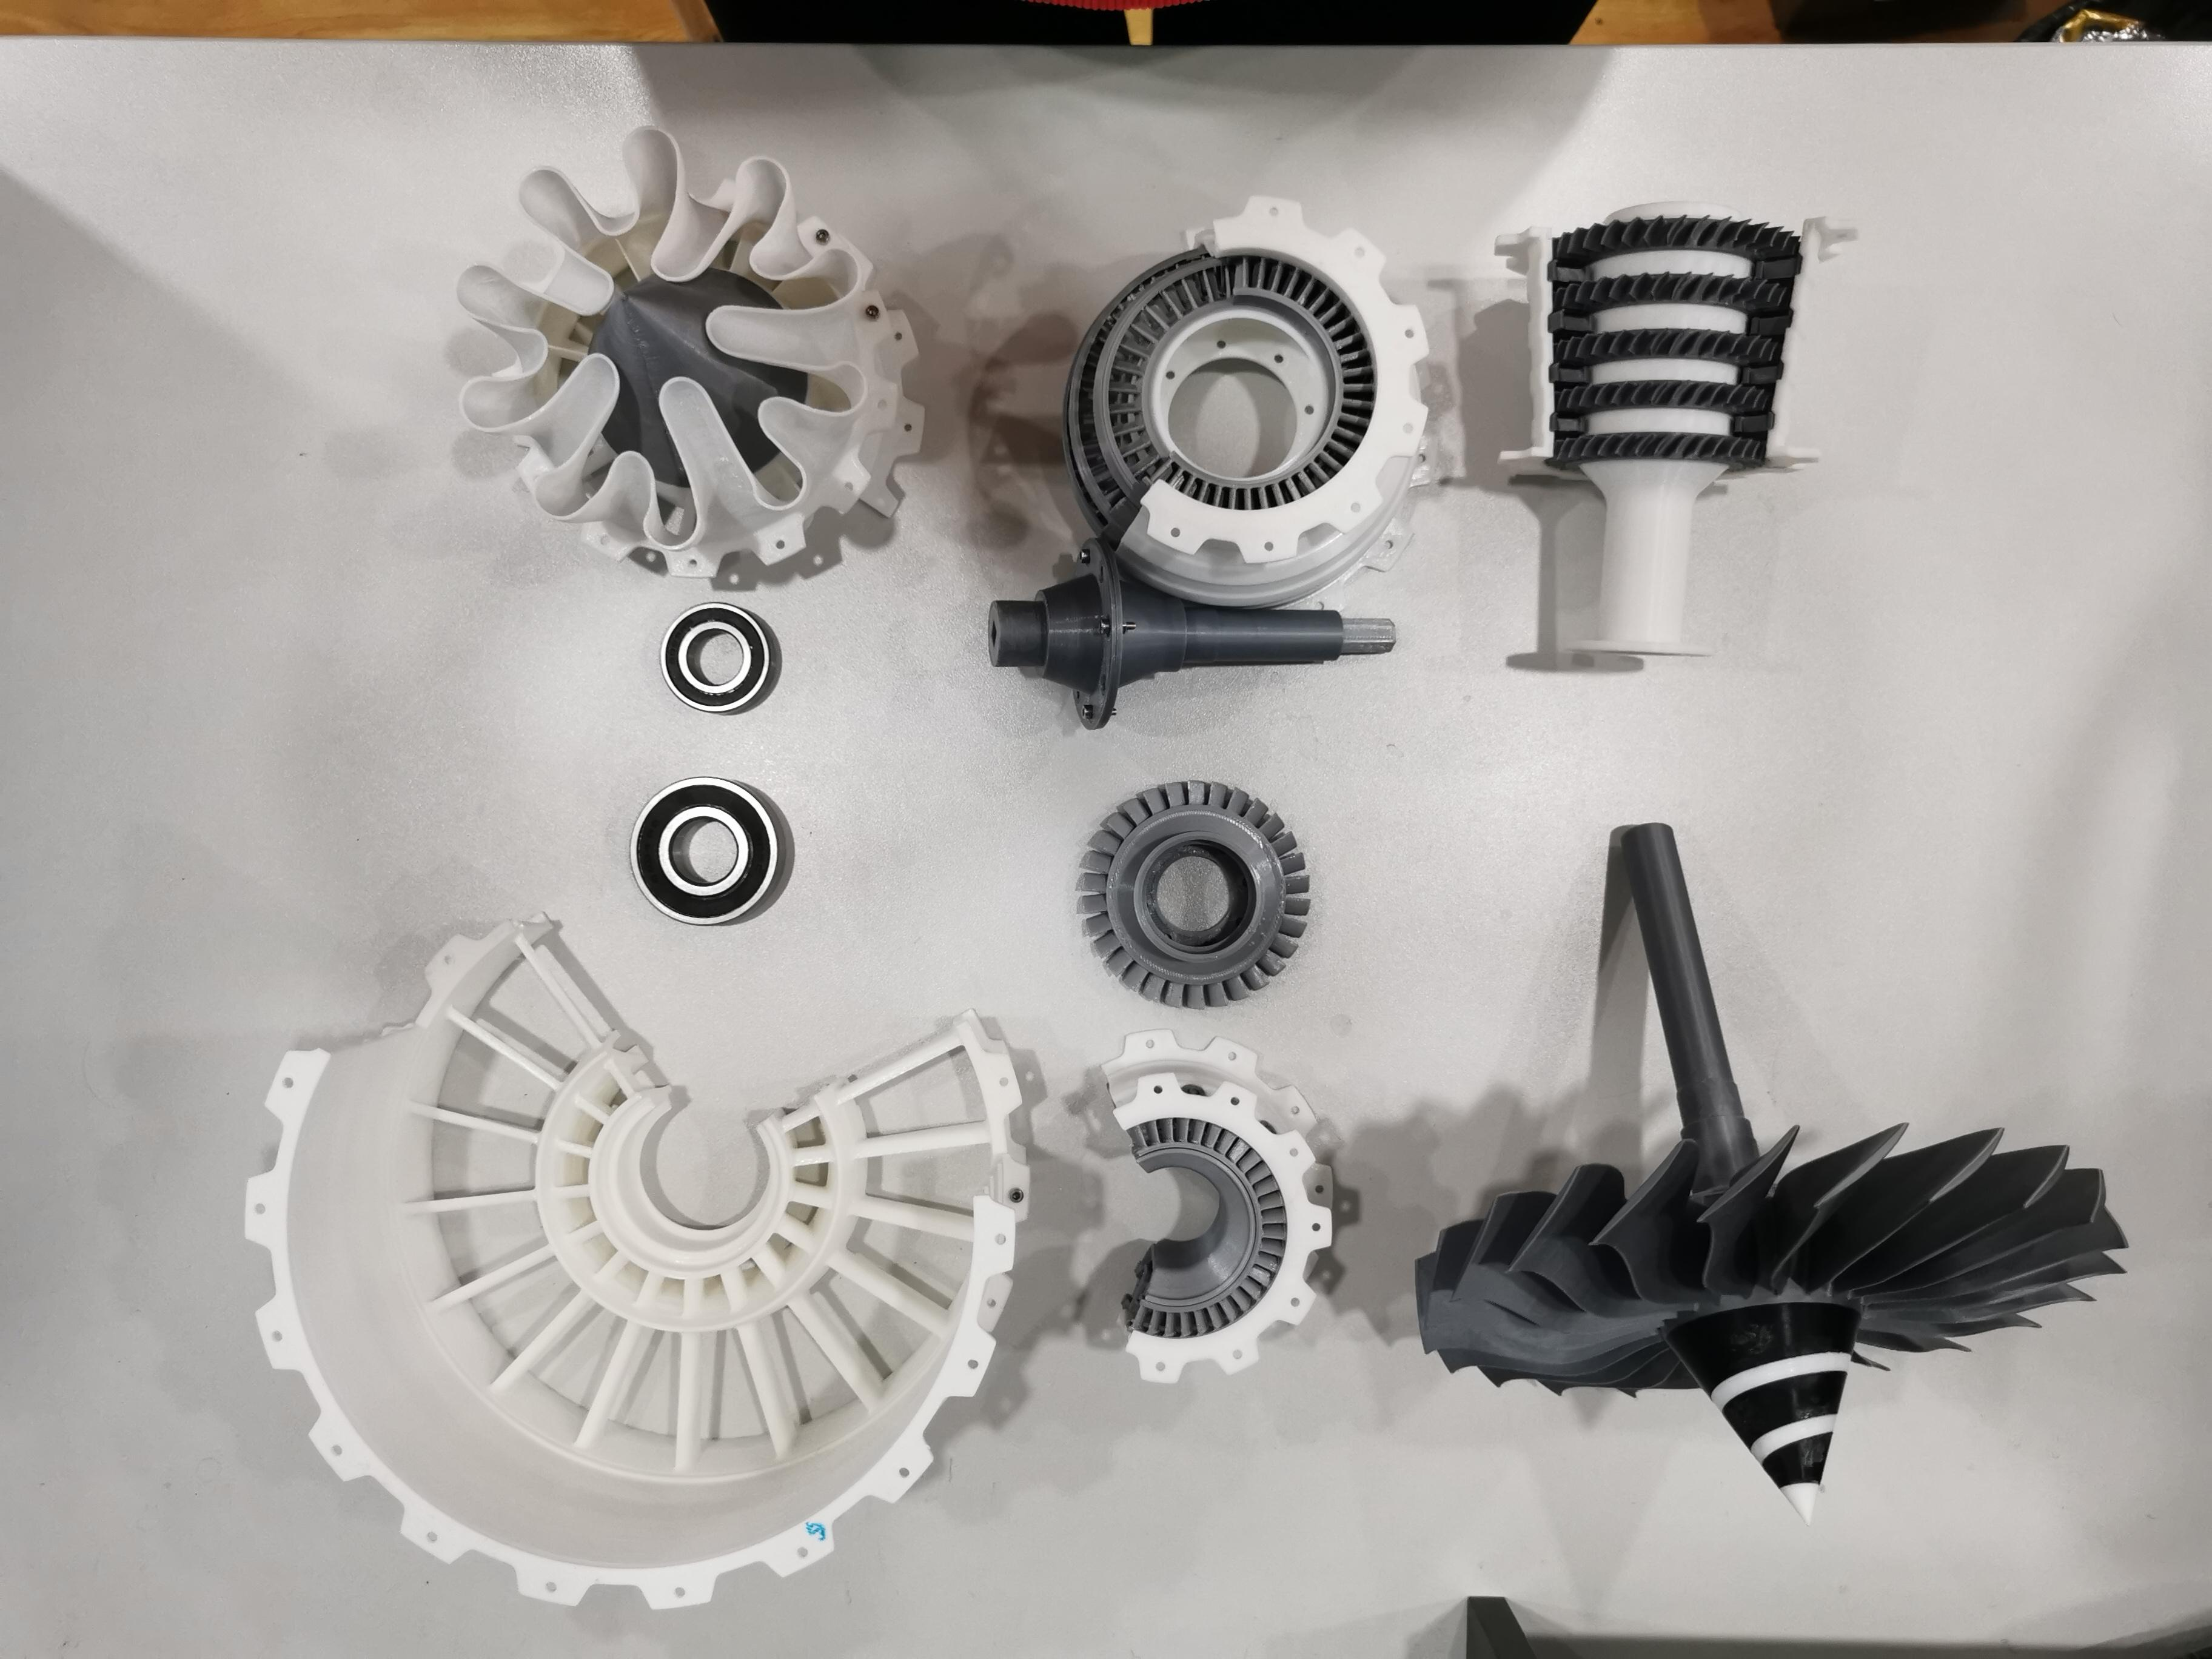Bearing-6003: (627, 592, 796, 734)
Bearing-6204: (597, 762, 817, 939)
Combustion Section: (1068, 1025, 1352, 1408)
Fan Casing and Support: (226, 906, 1036, 1619)
Fan and Low Pressure Shaft: (1402, 812, 2134, 1530)
HPT Section: (1055, 767, 1315, 1026)
High Pressure Spool: (1472, 183, 1888, 676)
LPT Section: (1026, 192, 1458, 620)
Low Pressure Spool: (975, 526, 1409, 734)
Nozzle Section: (435, 112, 949, 594)
